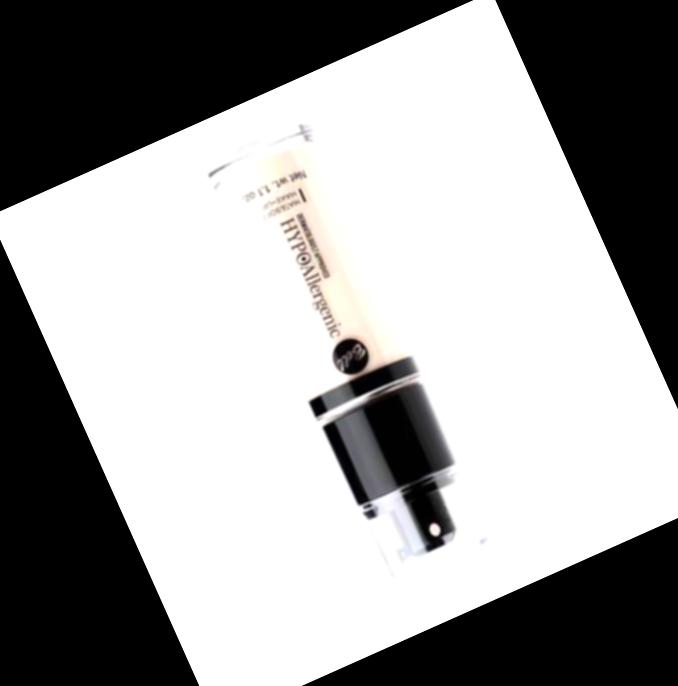cosmetic: (201, 116, 495, 587)
